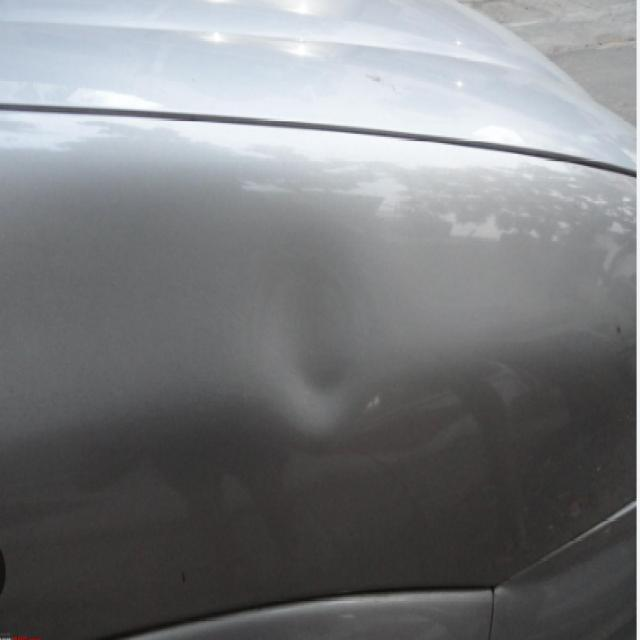dents: (272, 306, 354, 438)
